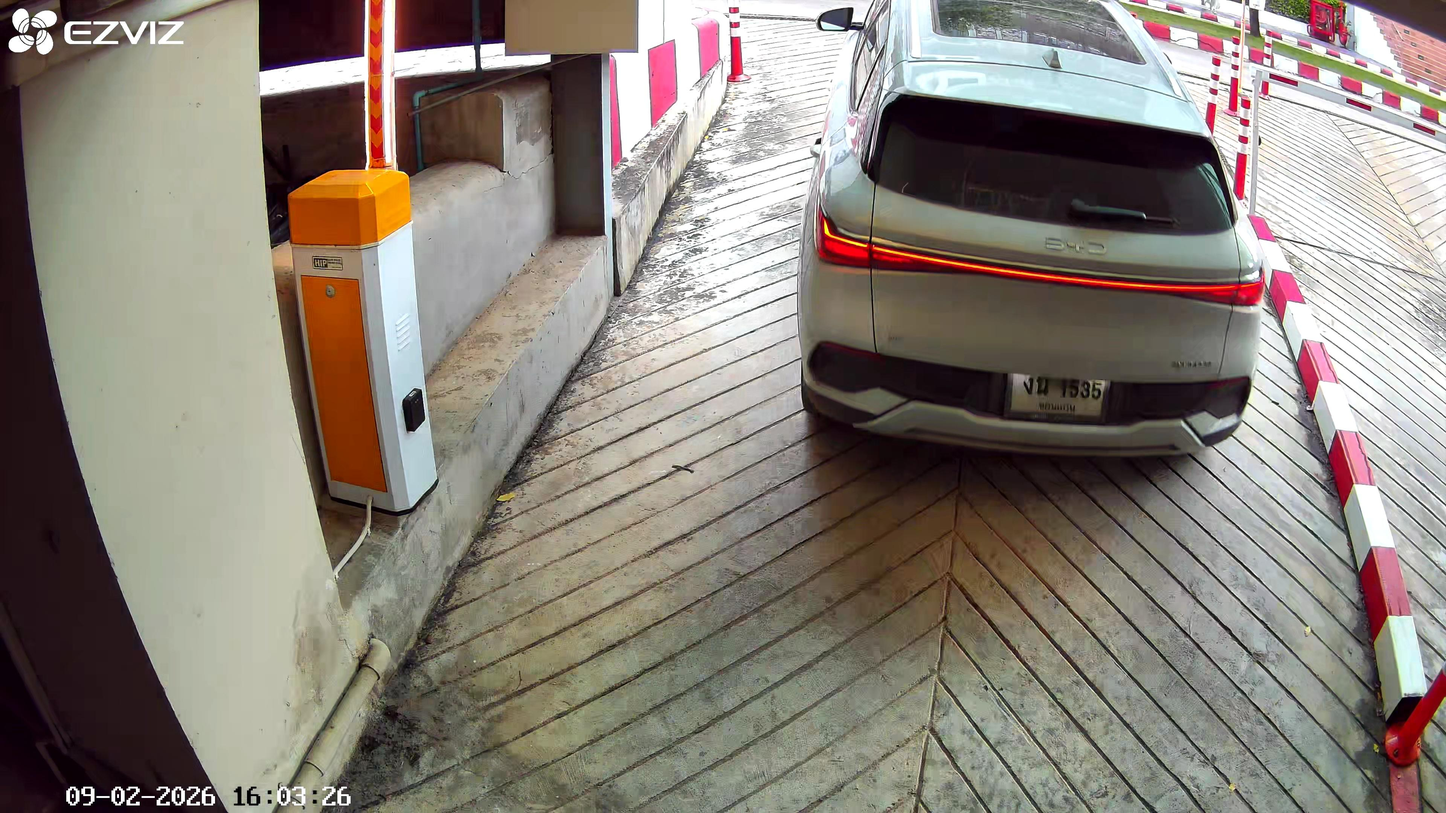car: (796, 4, 1281, 472)
license-plate: (1003, 368, 1110, 420)
